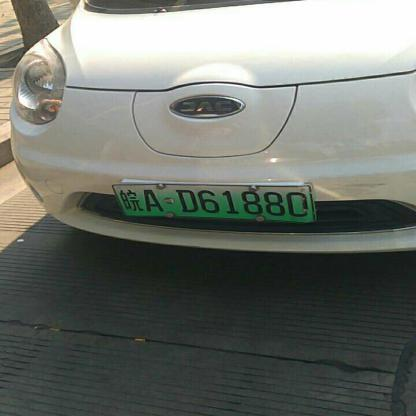lp: (113, 185, 314, 219)
